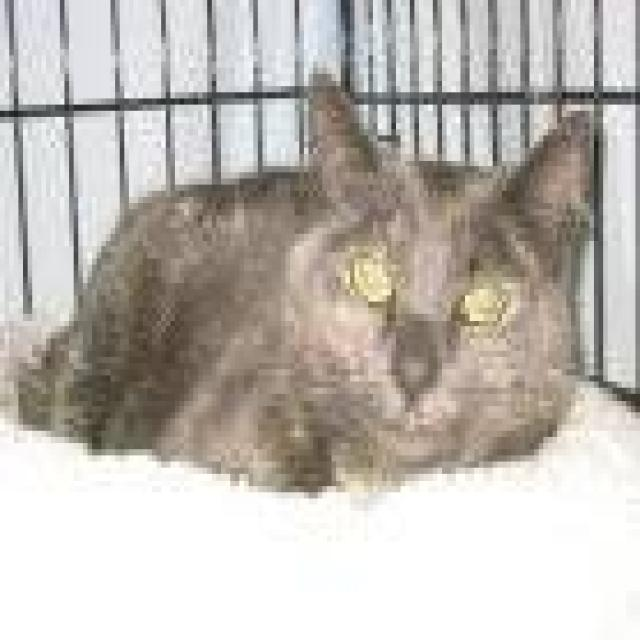cat: (9, 61, 594, 492)
